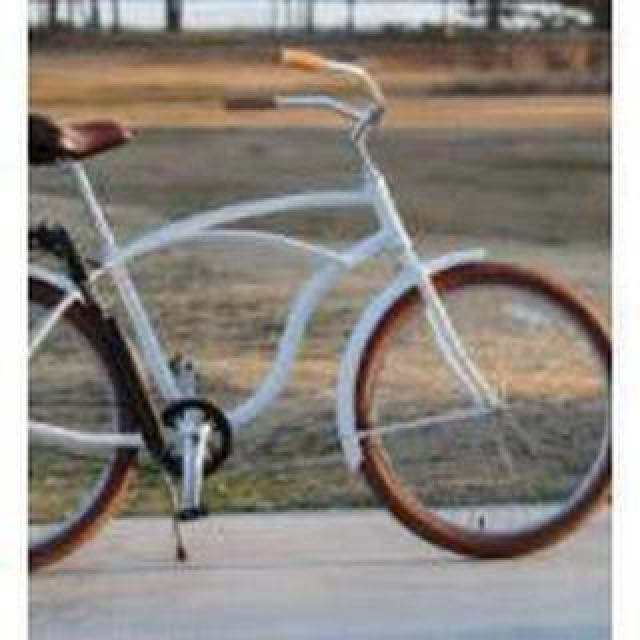Person: (28, 53, 612, 587)
